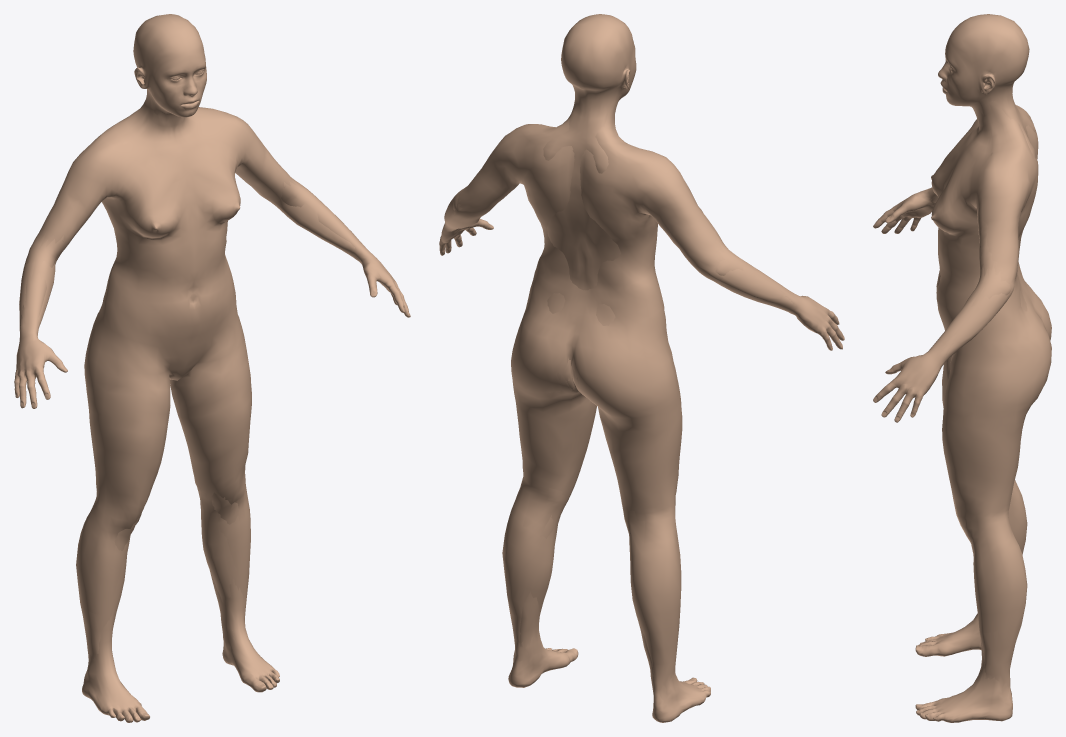
The model's file is female.glb.
The picture shows the model from 3 angles, left to right: view 1: azimuth 30°, elevation 25°; view 2: azimuth 150°, elevation 25°; view 3: azimuth 270°, elevation 25°; orthographic projection. The views are drawn at different scales.
Parts seen in each view (by area): view 1: robusta-body, delgada-body, media-body; view 2: robusta-body, delgada-body, media-body; view 3: robusta-body, delgada-body, media-body.
Part boxes in pixels (x1,y1,x2,y2): robusta-body: (19, 107, 355, 640); delgada-body: (14, 14, 410, 722); media-body: (33, 89, 366, 682); robusta-body: (444, 124, 796, 664); delgada-body: (439, 14, 844, 722); media-body: (444, 89, 800, 713); robusta-body: (931, 105, 1051, 664); delgada-body: (873, 14, 1035, 722); media-body: (916, 87, 1031, 710).
Bounding box in the file's own units: 1.83 × 3 × 0.7294.
